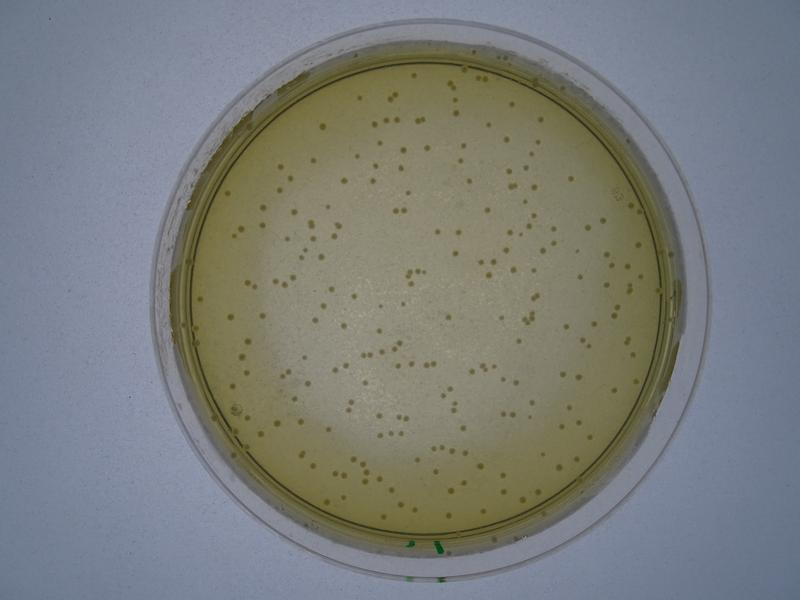colony: (313, 120, 331, 134), (305, 153, 320, 166), (359, 377, 373, 390), (273, 419, 286, 432), (441, 312, 454, 324), (225, 311, 237, 323), (565, 172, 577, 184), (302, 379, 316, 389), (610, 385, 620, 399), (337, 320, 349, 331), (349, 292, 361, 303), (257, 311, 269, 322), (516, 336, 527, 348), (403, 185, 414, 197), (453, 226, 466, 236), (497, 311, 507, 324), (581, 221, 591, 234), (561, 321, 572, 332), (316, 252, 327, 263), (598, 214, 608, 226), (337, 175, 349, 185), (449, 250, 462, 259), (433, 226, 443, 237), (458, 140, 469, 150), (446, 487, 457, 497), (575, 272, 585, 282), (258, 203, 268, 213), (559, 370, 568, 381), (466, 175, 474, 187), (475, 463, 485, 472), (484, 204, 492, 215), (374, 327, 383, 335)
